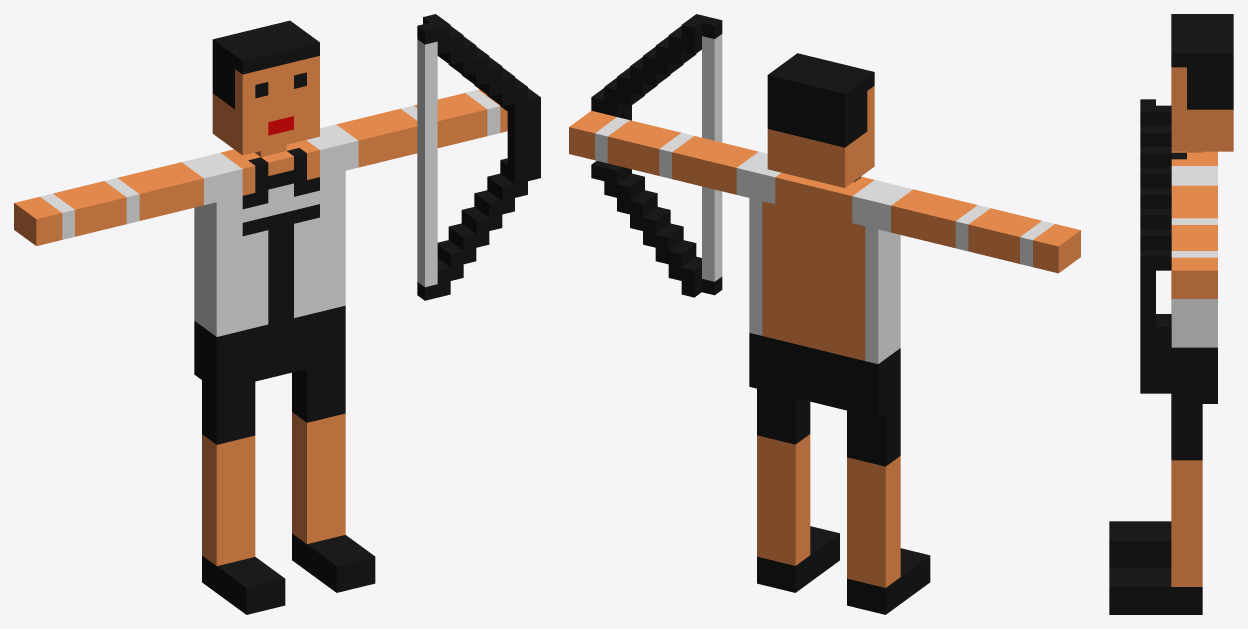
Rendered from arch.obj.
3 views of the same model, side by side, from view 1: azimuth 30°, elevation 25°; view 2: azimuth 150°, elevation 25°; view 3: azimuth 270°, elevation 25° (orthographic). The views are drawn at different scales.
Bounding box in the file's own units: 38 × 39 × 8.
1 material, 1 textured.
